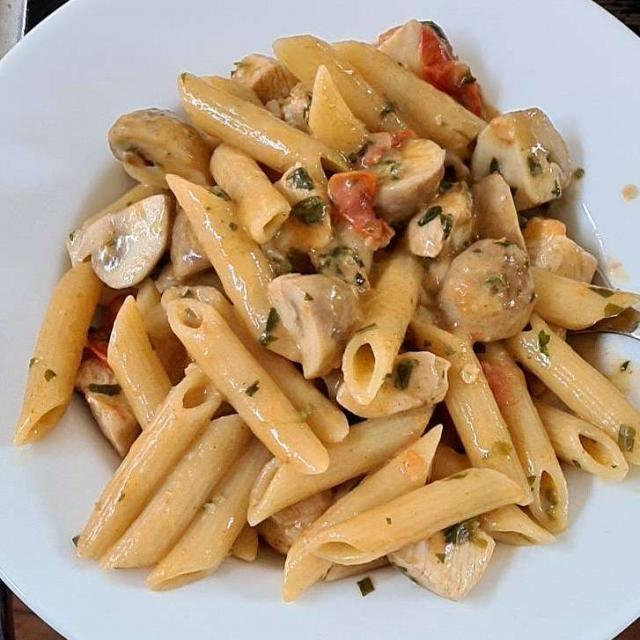mushrooms: (63, 118, 535, 393)
pasta: (27, 29, 621, 588)
